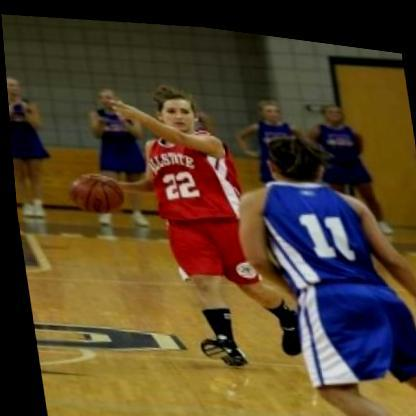basketball: (61, 166, 128, 218)
